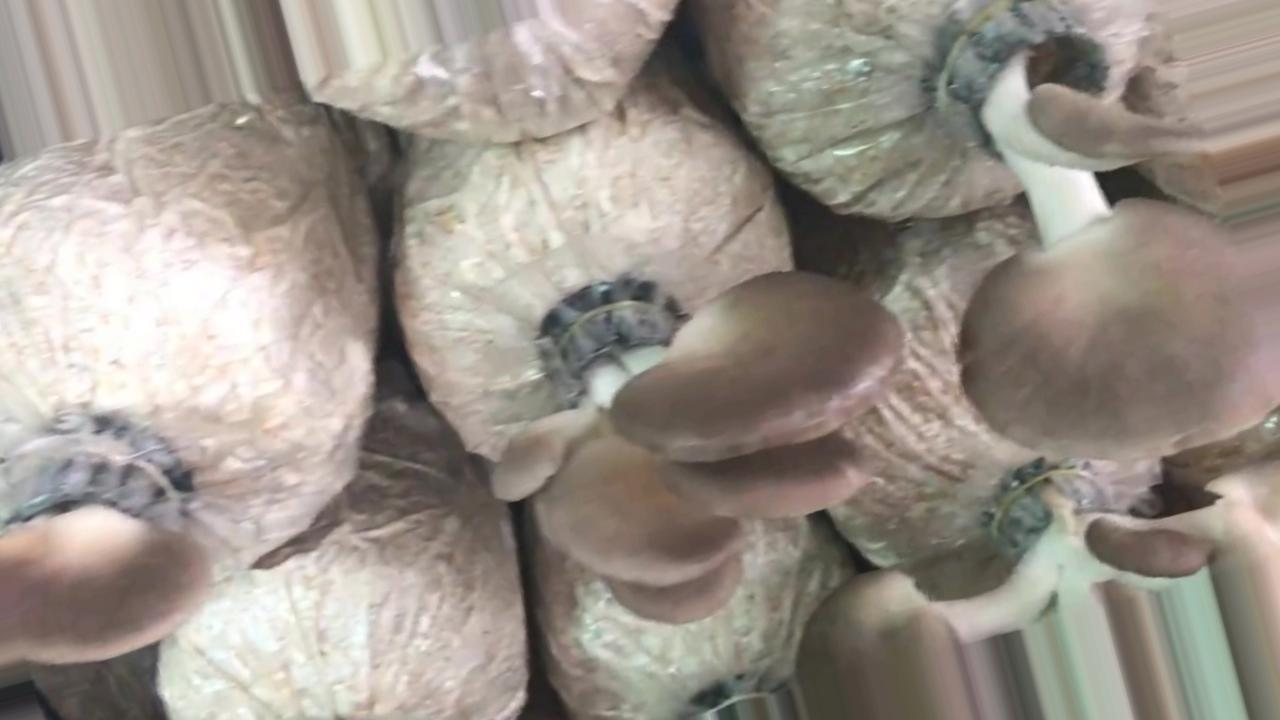nam: (482, 250, 913, 630), (932, 3, 1280, 466), (791, 475, 1280, 714), (1, 438, 216, 666)
